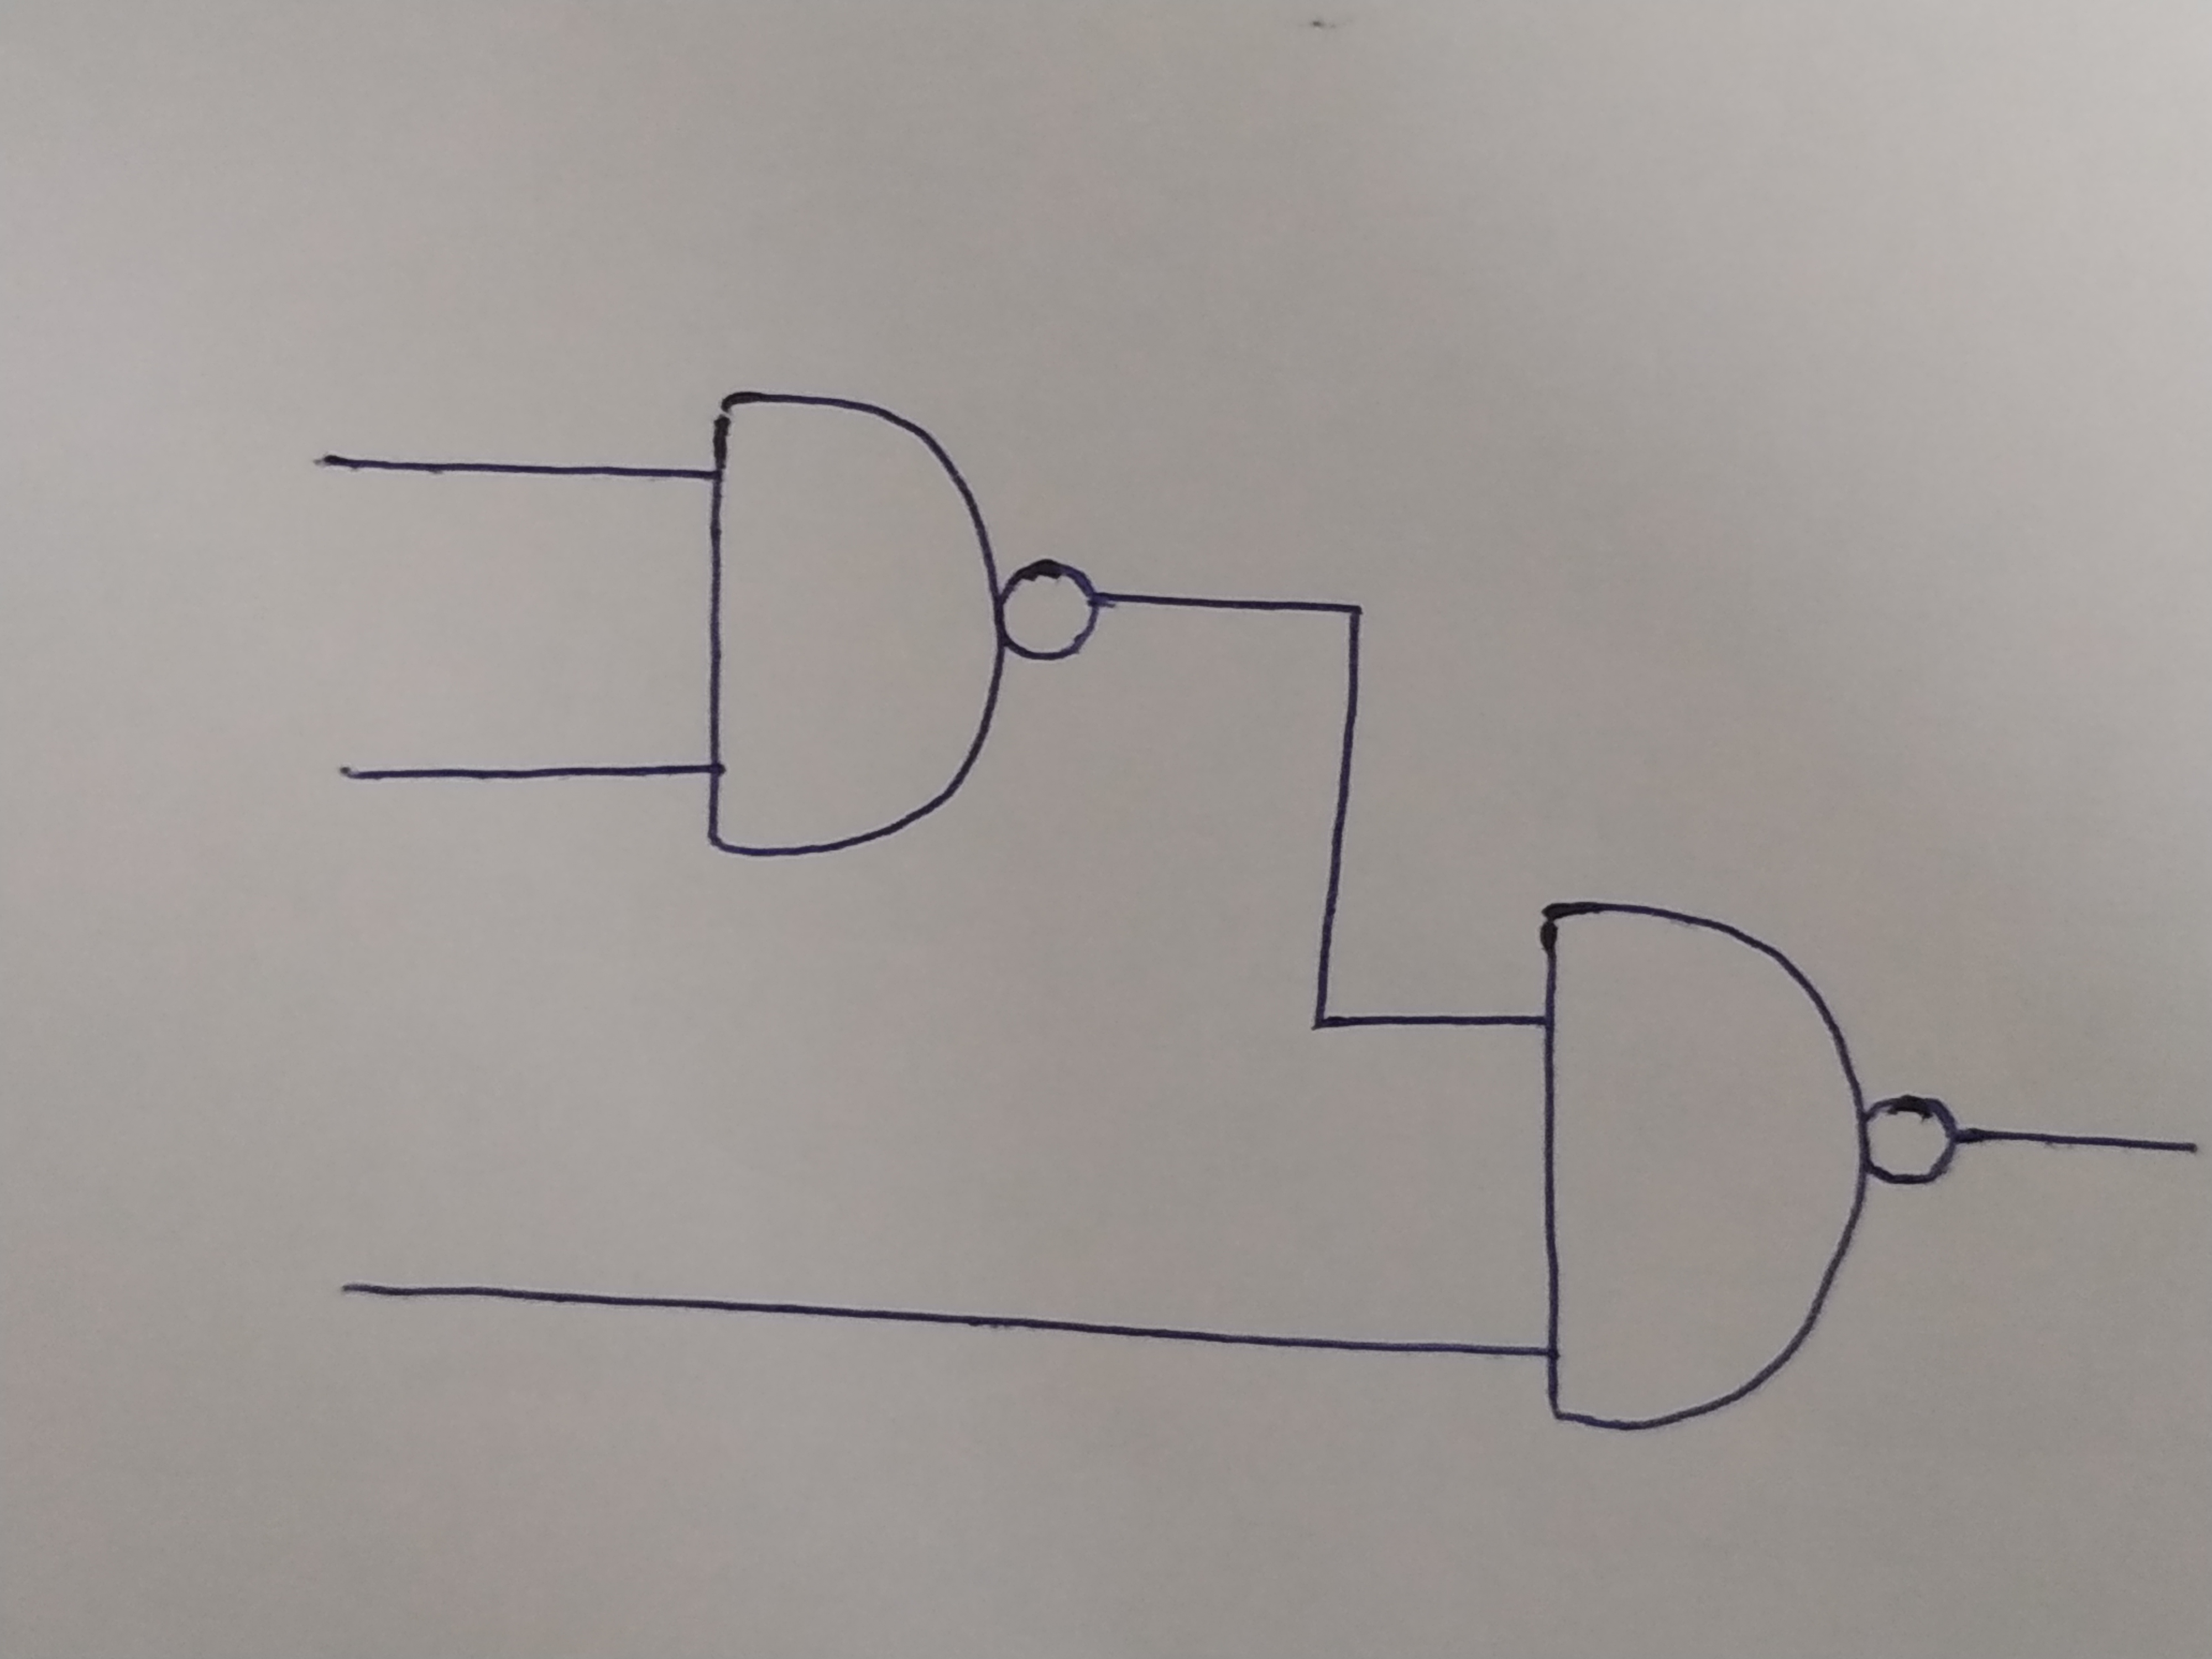and: (1541, 904, 1865, 1427), (704, 397, 1005, 852)
not: (1007, 559, 1099, 657), (1867, 1091, 1956, 1187)
